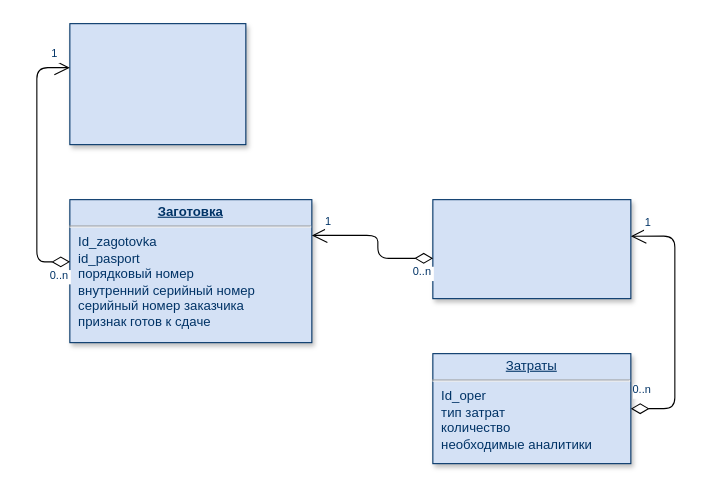
Some shapes in this 713 by 491 pixel diagram are drawn without their labels. The centre of each missing label's shape, as x and y in pixels:
"Паспорт ERP id_pasport Сплав ТЭК партия производственный заказ" belongs at (x=158, y=85).
"Производственные операции id_oper Id_zagotovka номер операции в MES" belongs at (x=532, y=250).
